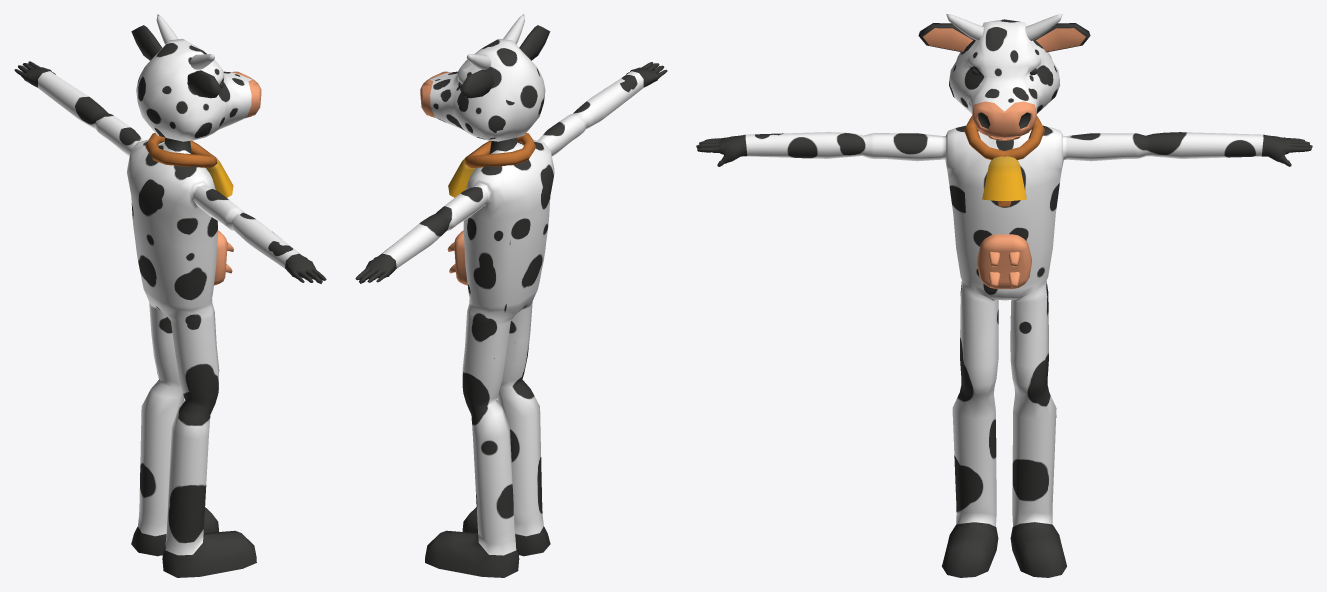
The model's file is scene_Q9aIf29Cg3.glb.
3 views of the same model, side by side, from view 1: azimuth 30°, elevation 25°; view 2: azimuth 150°, elevation 25°; view 3: azimuth 270°, elevation 25° (orthographic). The views are drawn at different scales.
Visible parts, largest first — view 1: _100Avatars_190_CoolCow; view 2: _100Avatars_190_CoolCow; view 3: _100Avatars_190_CoolCow.
Boxes of the visible parts, x1,y1,x2,y2 form: _100Avatars_190_CoolCow: (14,14,326,577); _100Avatars_190_CoolCow: (355,14,667,577); _100Avatars_190_CoolCow: (696,14,1312,577).
Size of the model in its own units: 1.17 by 4.98 by 5.16.
Materials: 1 (1 with a texture image).
